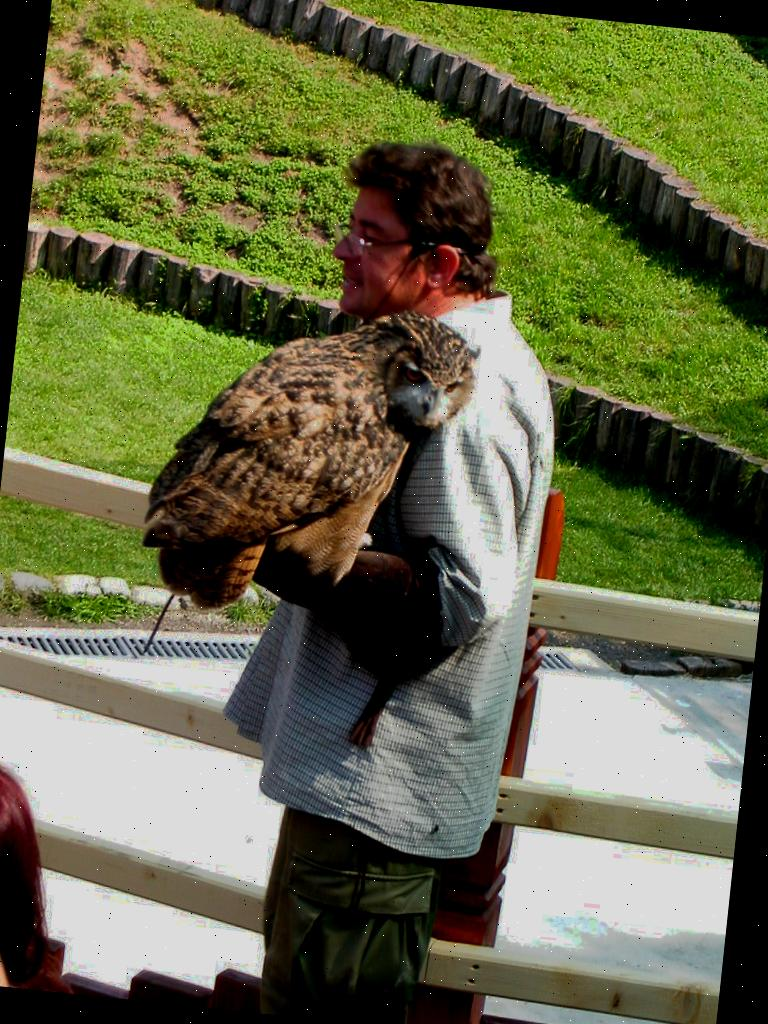Owl: (114, 272, 484, 654)
